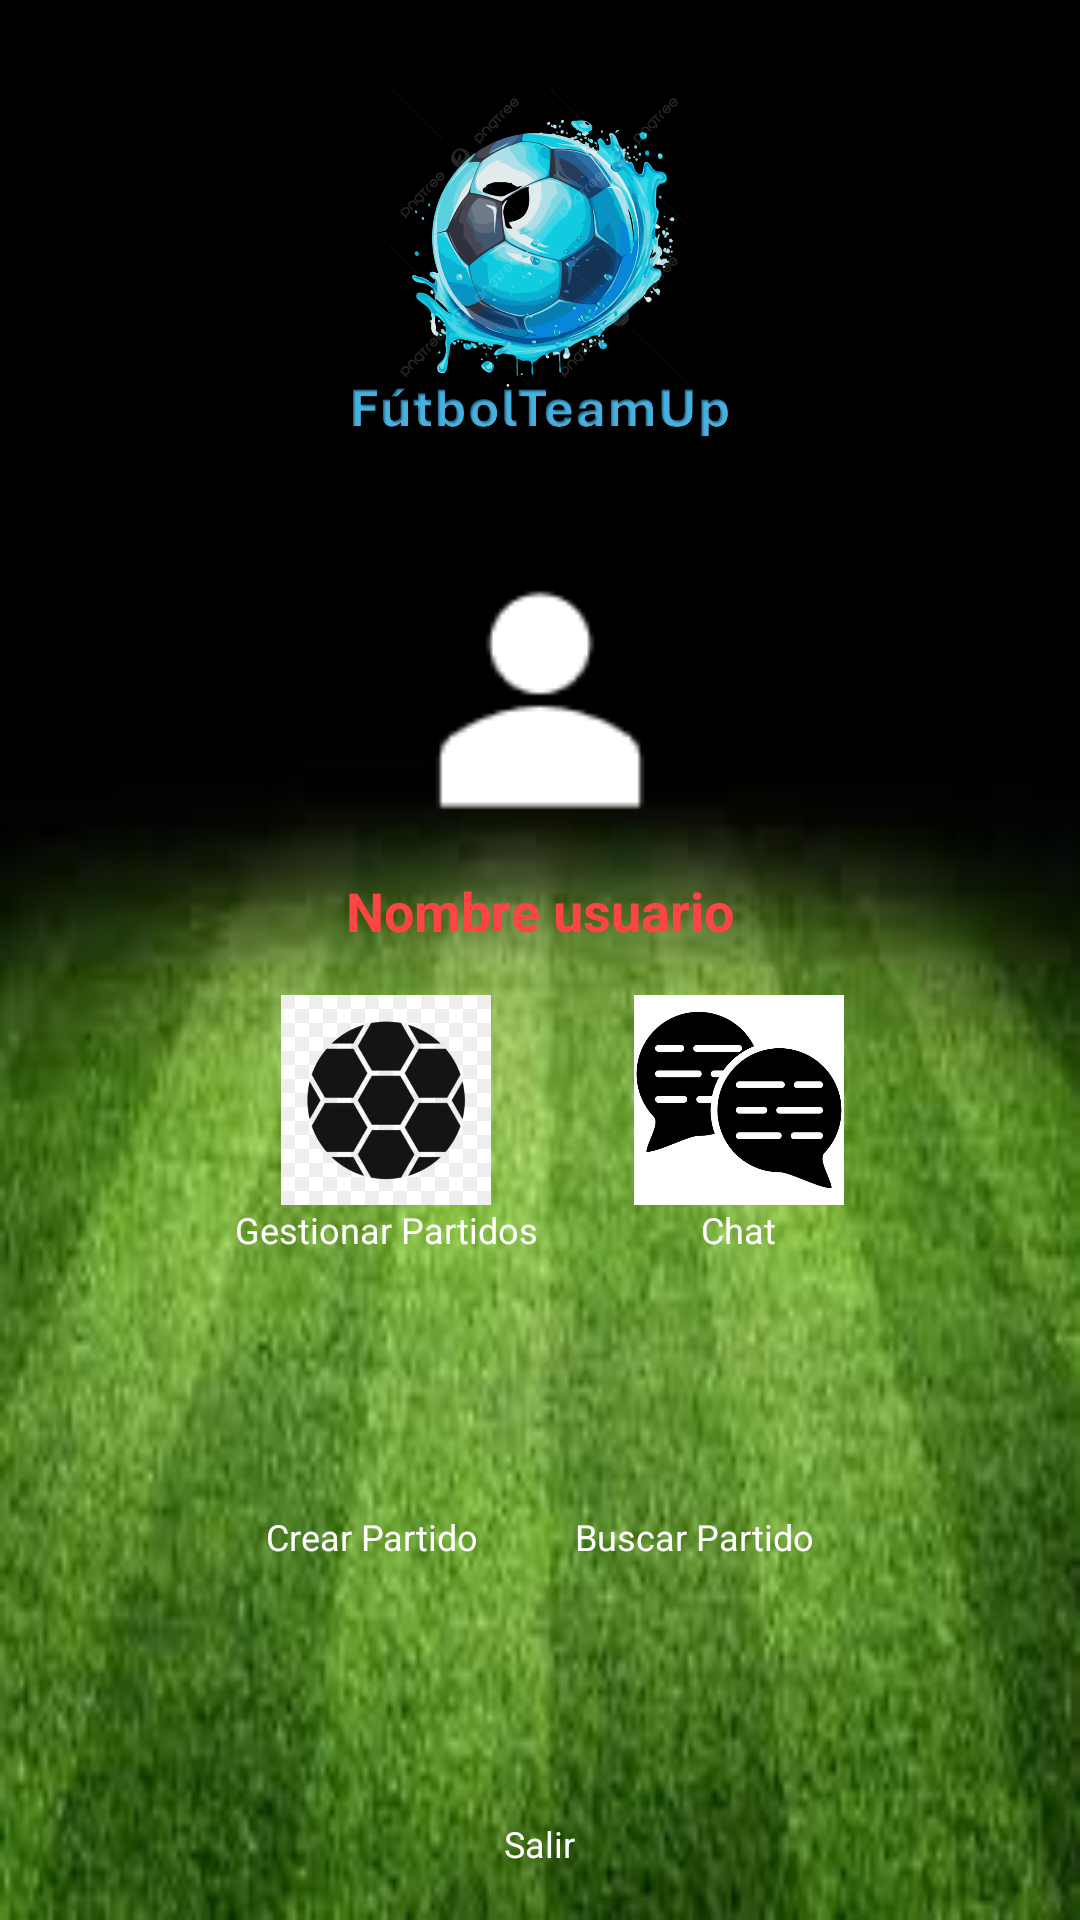

Named icons in this screenshot (1080w x 1920h) and their centers, point (x, y):
Icono de usuario: point (540, 700)
